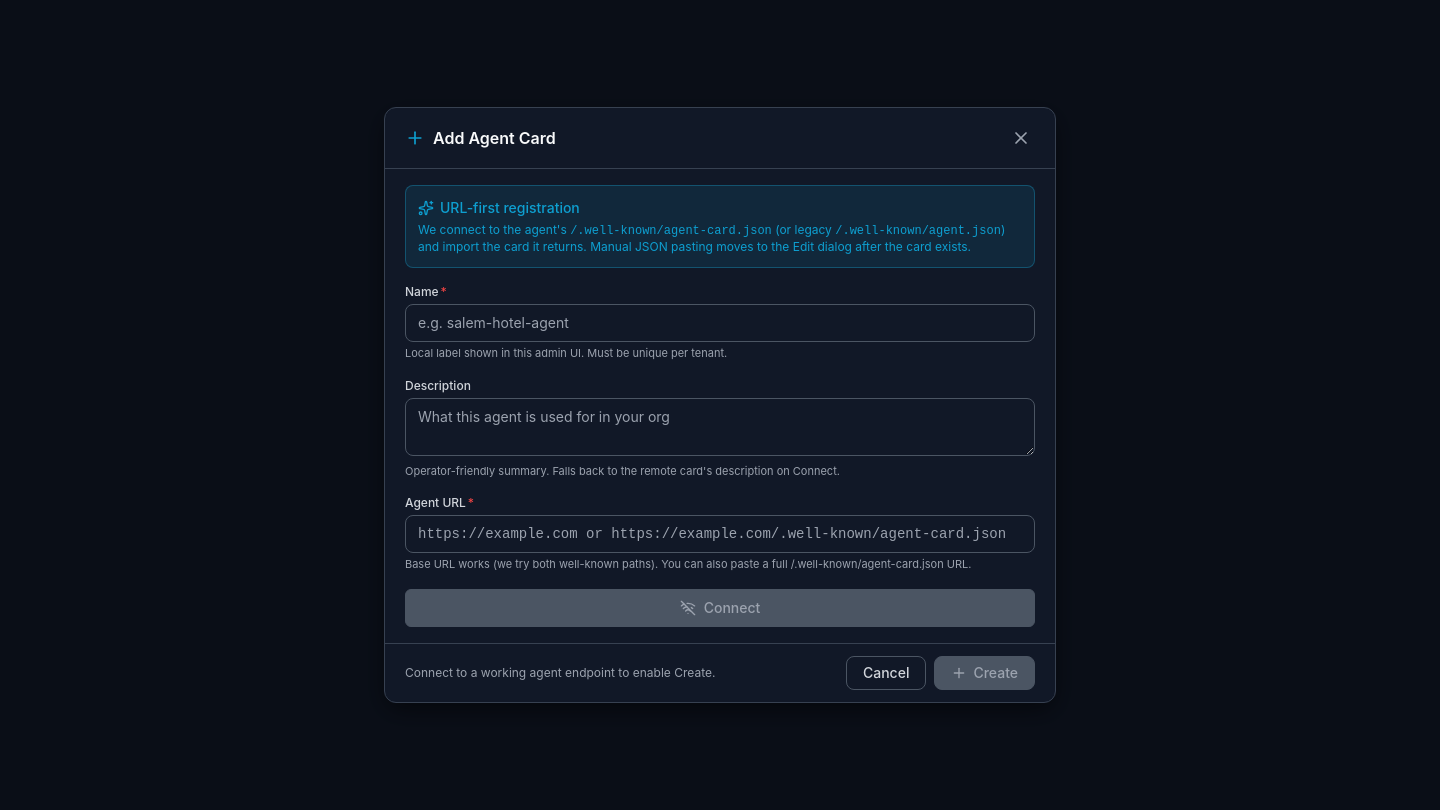
AgentCardCreateDialog › discovers the trimmed URL and fills in name and description
The image size is (1440, 810).
Replace the text in the 2nd field with "  https://hotel.test  " at (720, 534), box x1=405 y1=515 x2=1035 y2=553
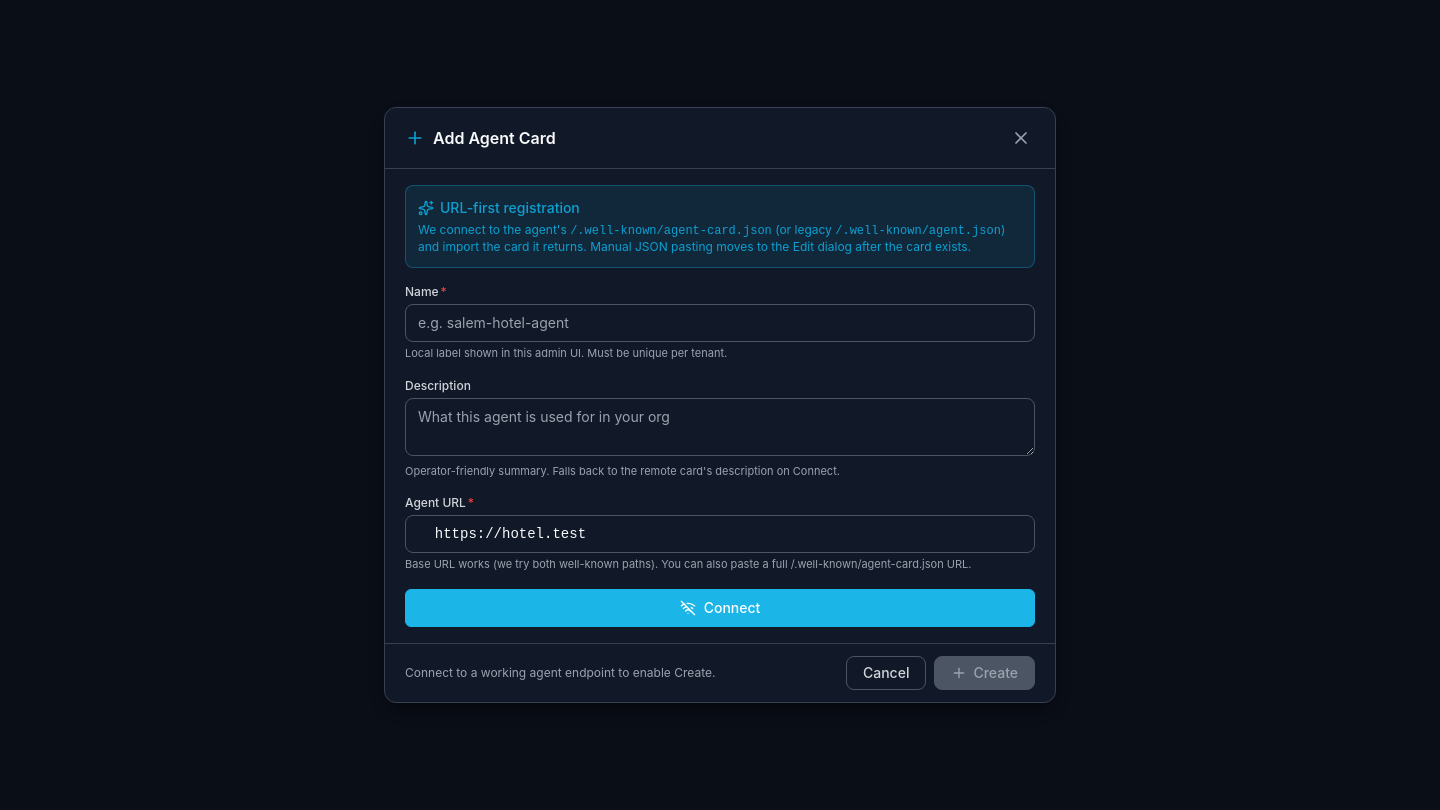
Click the button "Connect".
click(720, 608)  # box x1=405 y1=589 x2=1035 y2=627
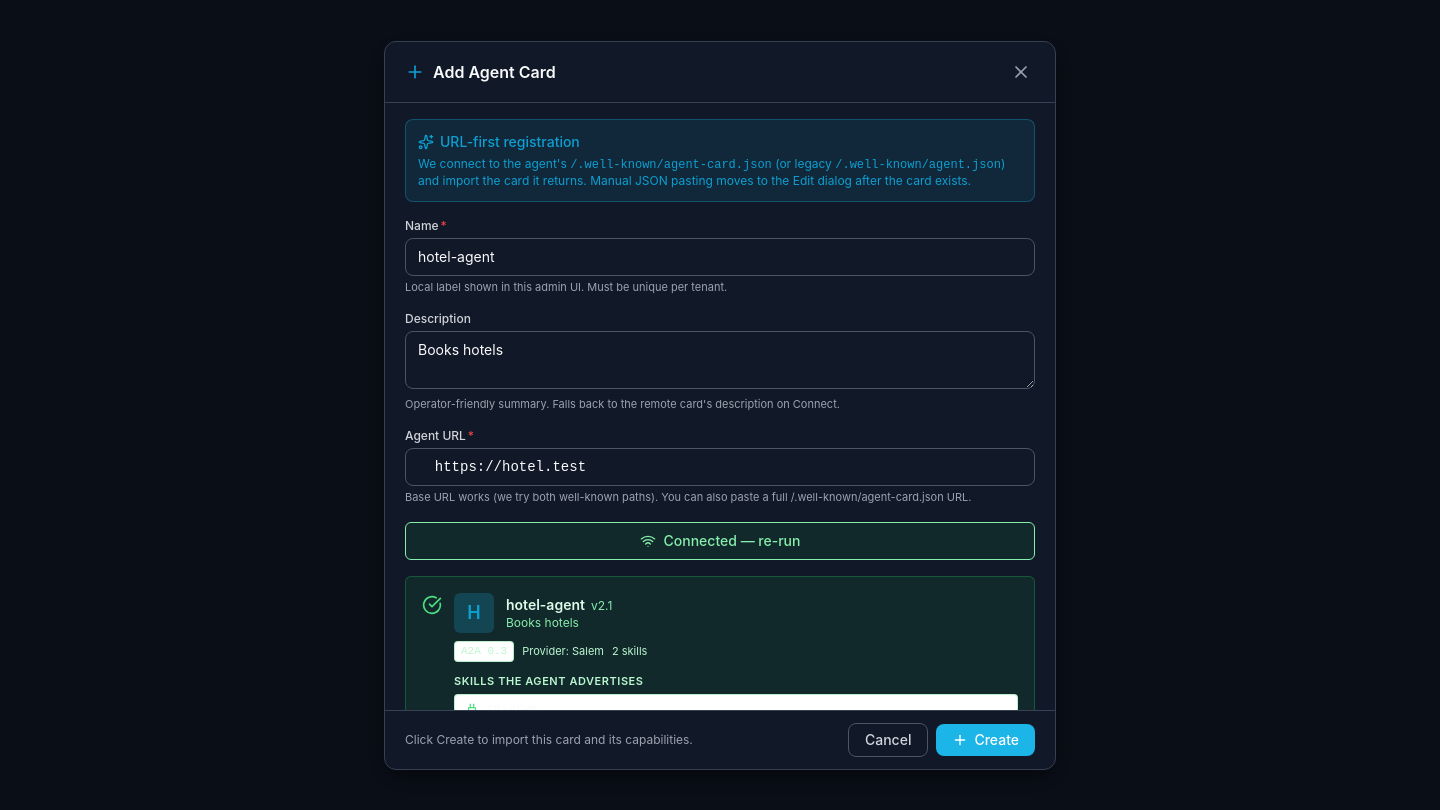
Check: the button "Connected — re-run" is enabled, box x1=405 y1=522 x2=1035 y2=560
Check: the text box showing "Books hotels" is shown, box x1=405 y1=331 x2=1035 y2=389
Check: the button "Create" is enabled, box x1=936 y1=724 x2=1035 y2=756
